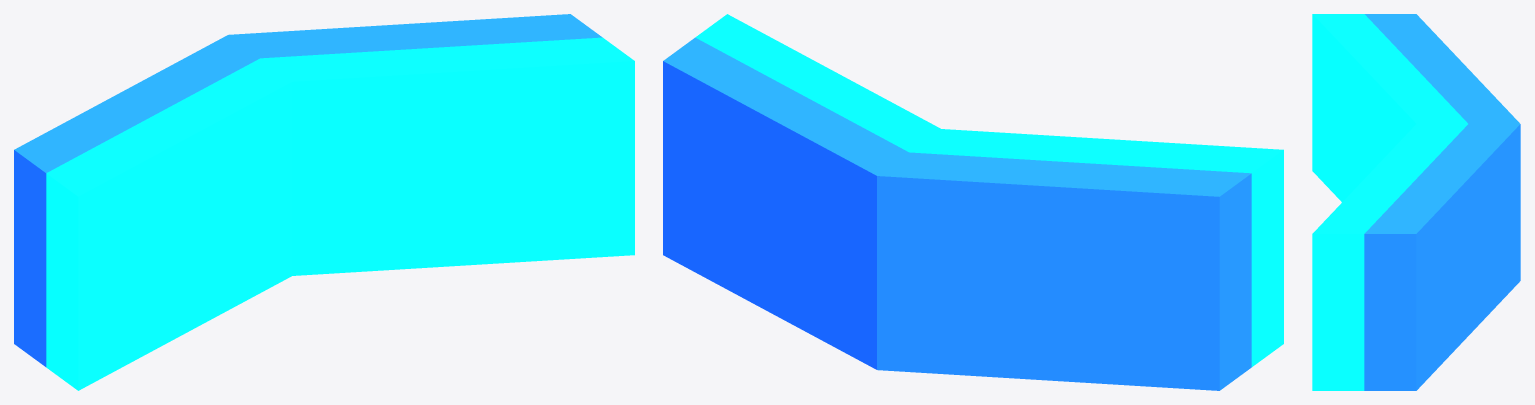
The model's file is aimer.glb.
3 views of the same model, side by side, from view 1: azimuth 30°, elevation 25°; view 2: azimuth 150°, elevation 25°; view 3: azimuth 270°, elevation 25° (orthographic). The views are drawn at different scales.
Parts seen in each view (by area): view 1: Arrow; view 2: Arrow; view 3: Arrow.
Part boxes in pixels (left/top/right/bottom): Arrow: left=14, top=14, right=634, bottom=390; Arrow: left=663, top=14, right=1283, bottom=390; Arrow: left=1312, top=14, right=1520, bottom=390.
Size of the model in its own units: 1.5 by 0.5 by 0.6.
